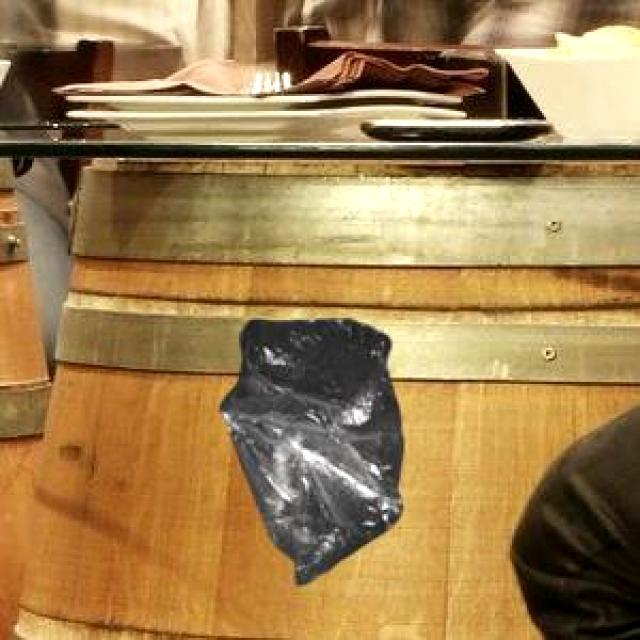Plastic_Bag: (217, 314, 400, 582)
